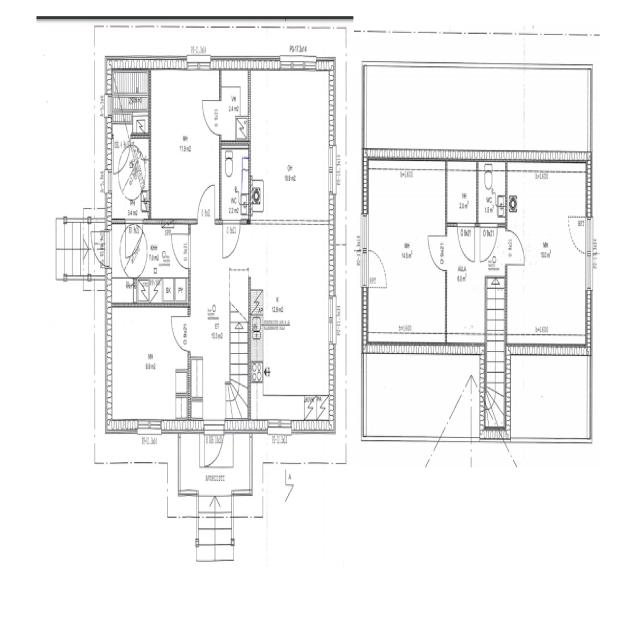door: (204, 419, 224, 473), (88, 232, 112, 266), (125, 218, 143, 260), (222, 218, 240, 258), (113, 134, 131, 173), (198, 185, 215, 224), (428, 236, 447, 270), (480, 224, 497, 261), (171, 317, 190, 350), (203, 100, 221, 134), (505, 230, 523, 264), (458, 224, 474, 262), (172, 235, 190, 268)
